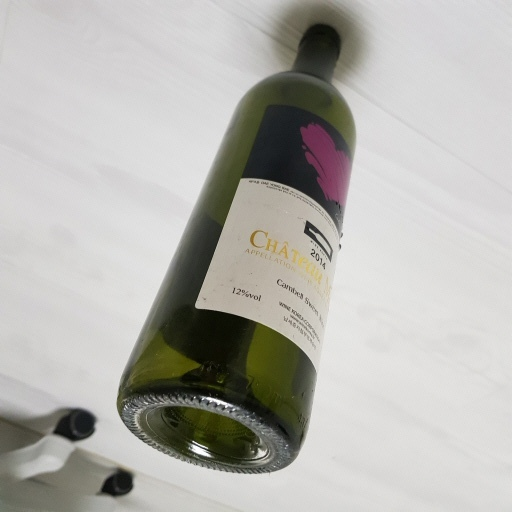Glass_2: (114, 21, 362, 478)
